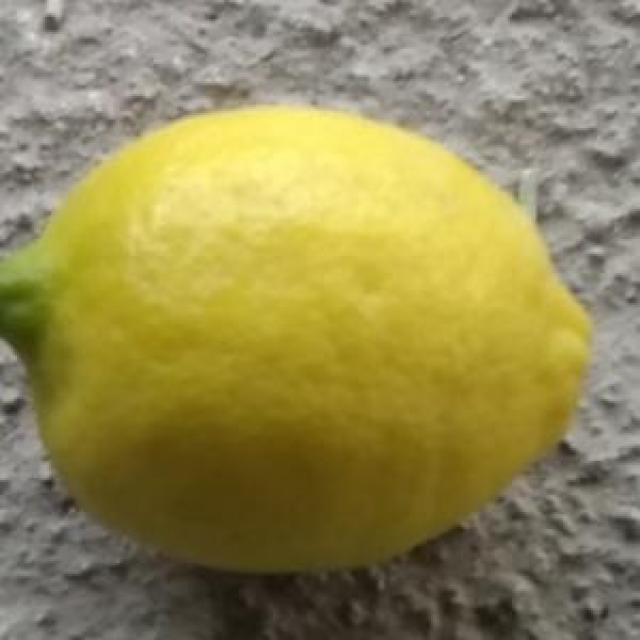lemon: (0, 104, 592, 580)
